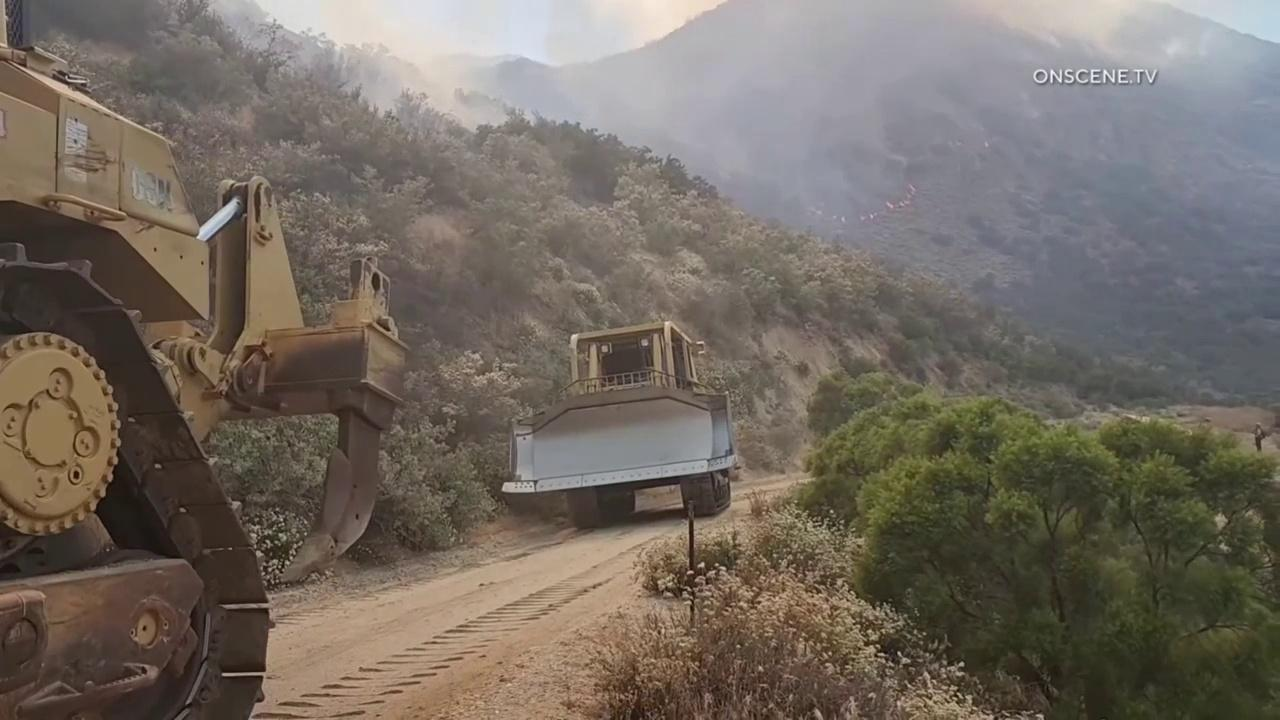fire: (885, 181, 920, 213), (860, 211, 878, 221), (983, 140, 992, 149), (841, 216, 847, 223), (833, 216, 838, 220)
smoke: (186, 0, 1280, 263)
